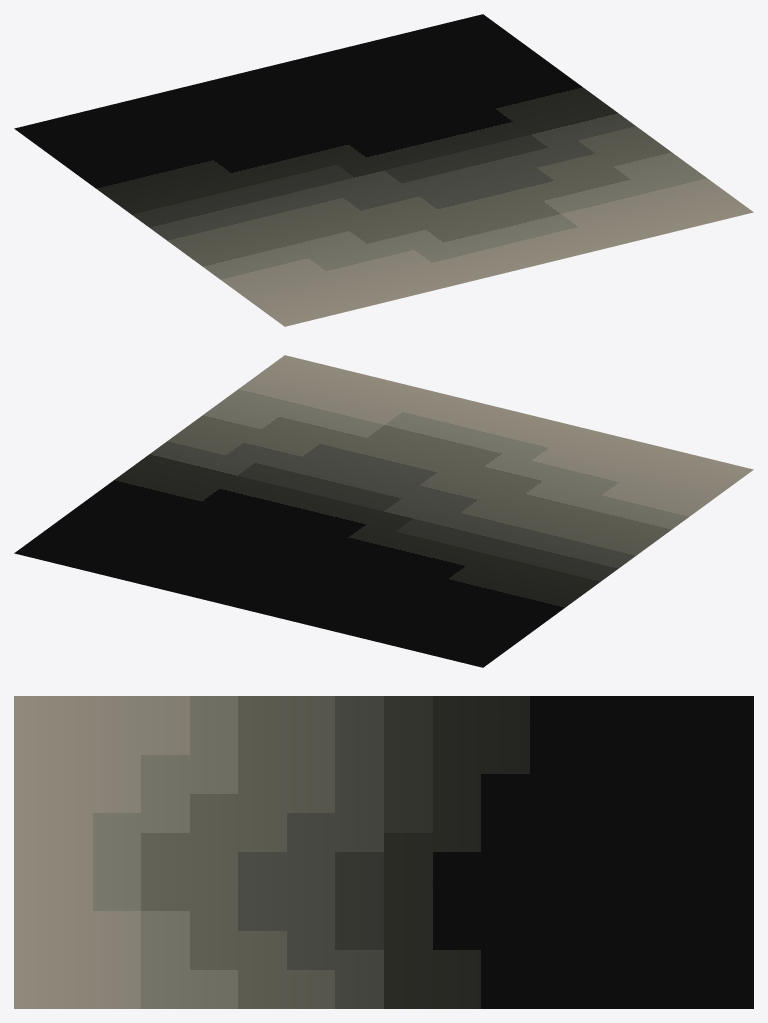
3 renders of one model, top to bottom at view 1: azimuth 30°, elevation 25°; view 2: azimuth 150°, elevation 25°; view 3: azimuth 270°, elevation 25°, orthographic. The views are drawn at different scales.
Bounding box in the file's own units: 1 × 0 × 1.
Materials: 1 (1 with a texture image).
